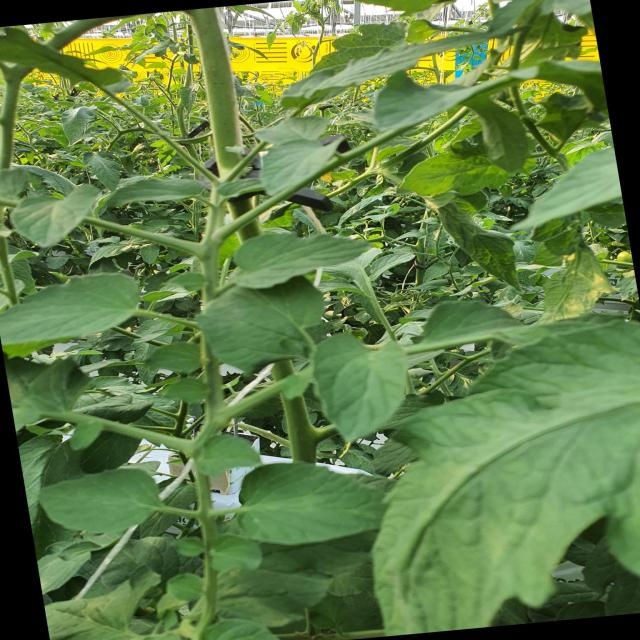Healthy Leaf: (0, 262, 175, 366), (237, 458, 424, 552), (0, 270, 160, 364), (296, 331, 414, 449), (213, 223, 388, 295), (33, 467, 186, 542), (227, 232, 387, 290), (5, 182, 120, 249), (240, 136, 357, 199)
